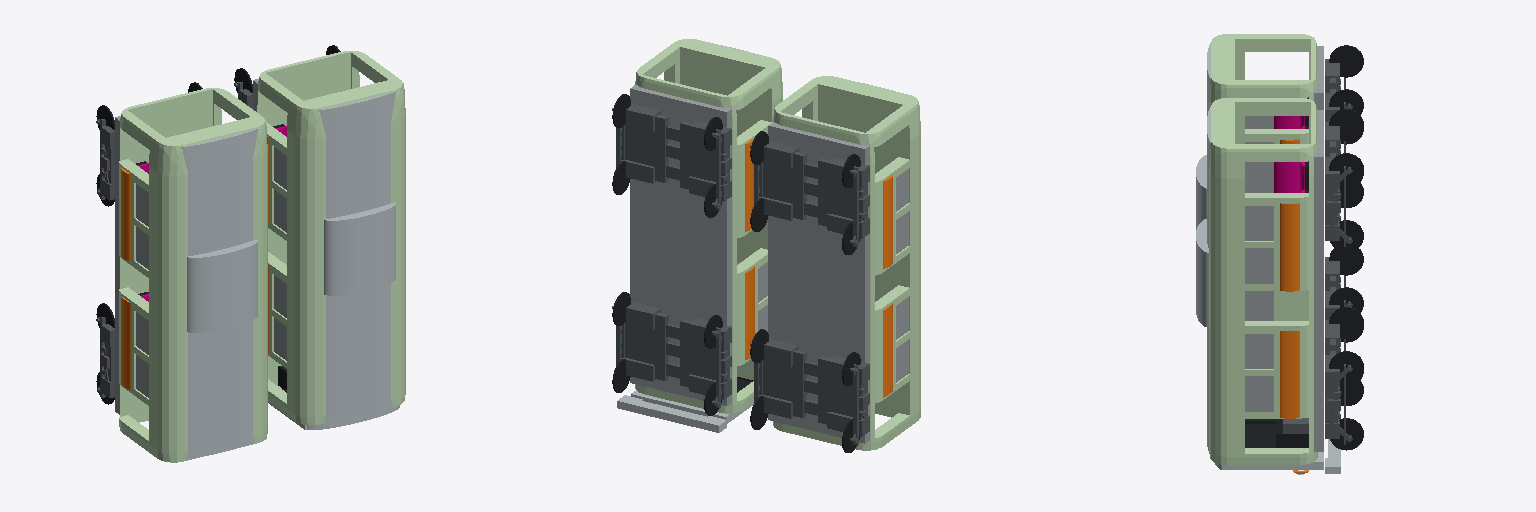
Rendered from tinker.obj.
The picture shows the model from 3 angles: view 1: azimuth 30°, elevation 25°; view 2: azimuth 150°, elevation 25°; view 3: azimuth 270°, elevation 25°; orthographic projection.
Visible parts, largest first — view 1: obj_0; view 2: obj_0; view 3: obj_0.
Boxes of the visible parts, <box> form: obj_0: <box>96,45,405,462</box>; obj_0: <box>612,39,920,452</box>; obj_0: <box>1196,34,1363,474</box>.
Size of the model in its own units: 462 by 574 by 264.